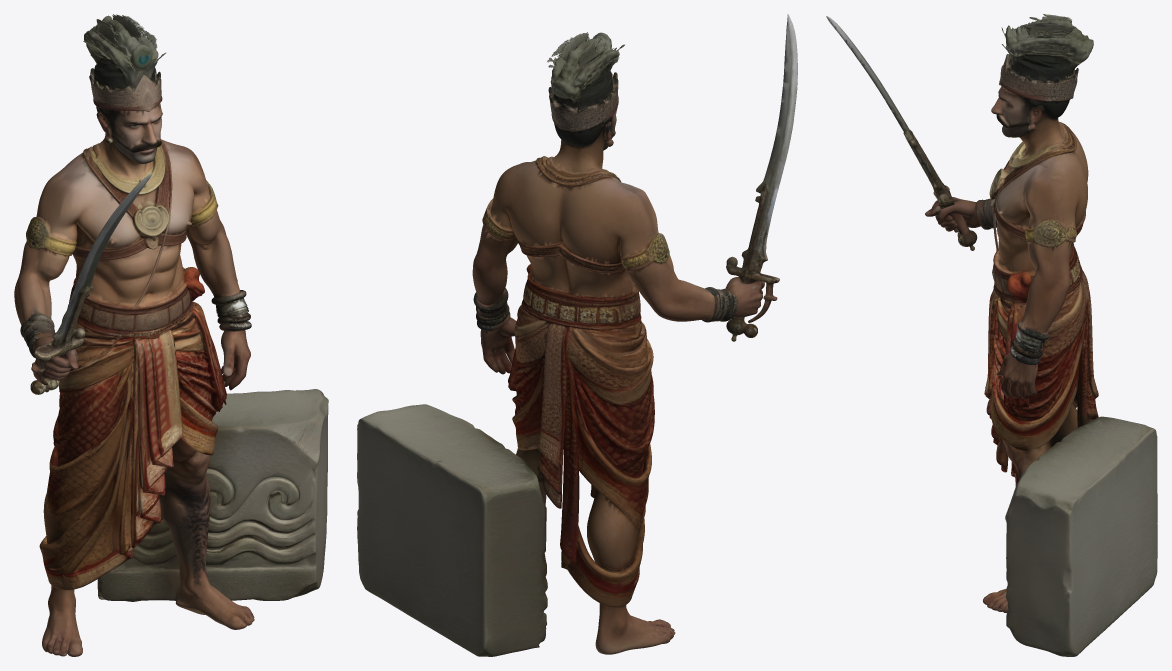
The model's file is karikala_chozhan.glb.
3 renders of one model, left to right at view 1: azimuth 30°, elevation 25°; view 2: azimuth 150°, elevation 25°; view 3: azimuth 270°, elevation 25°, orthographic. The views are drawn at different scales.
Parts seen in each view (by area): view 1: node_0; view 2: node_0; view 3: node_0.
Part boxes in pixels (x1,y1,x2,y2): node_0: (14,14,328,656); node_0: (357,14,797,656); node_0: (826,14,1157,656).
Bounding box in the file's own units: 0.6358 × 1.01 × 0.5545.
Materials: 1 (1 with a texture image).
